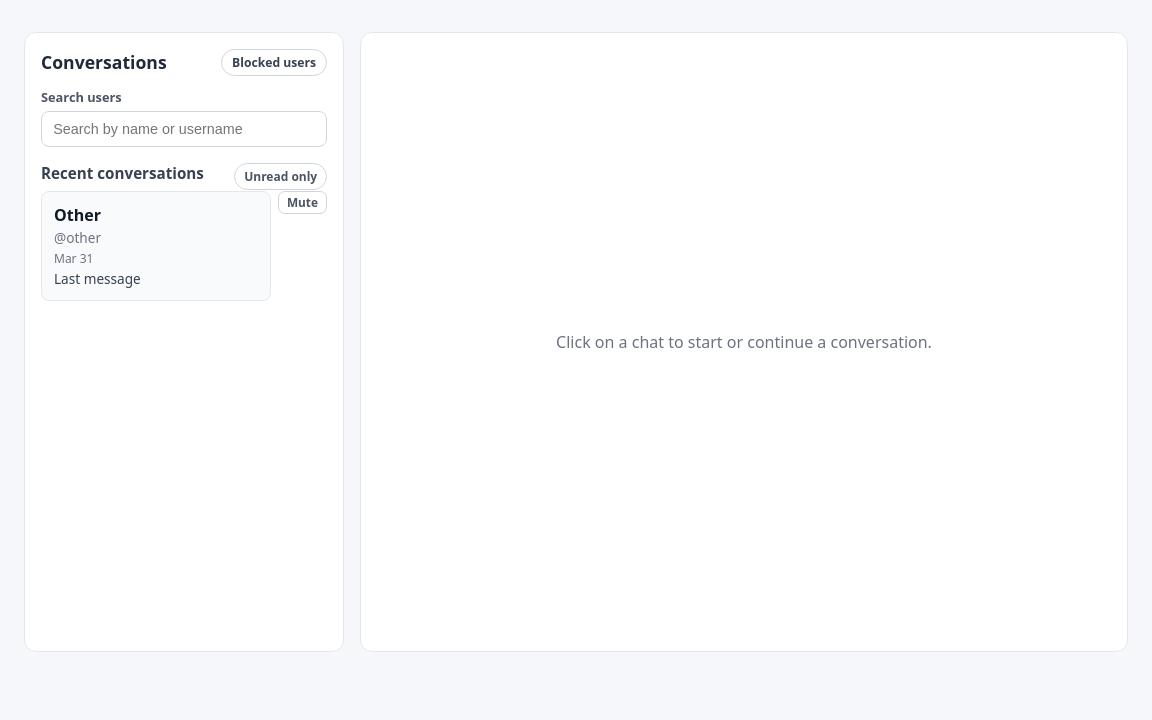
Scenario: Chat Page › pauses polling when hidden and refreshes when visible again
What coordinates should you click on to do the following:
click the button with aria-label "Open recent conversation with Other"
I would click on:
 (156, 246)
Its box is x1=41 y1=191 x2=271 y2=301.
Wait 9250 ms
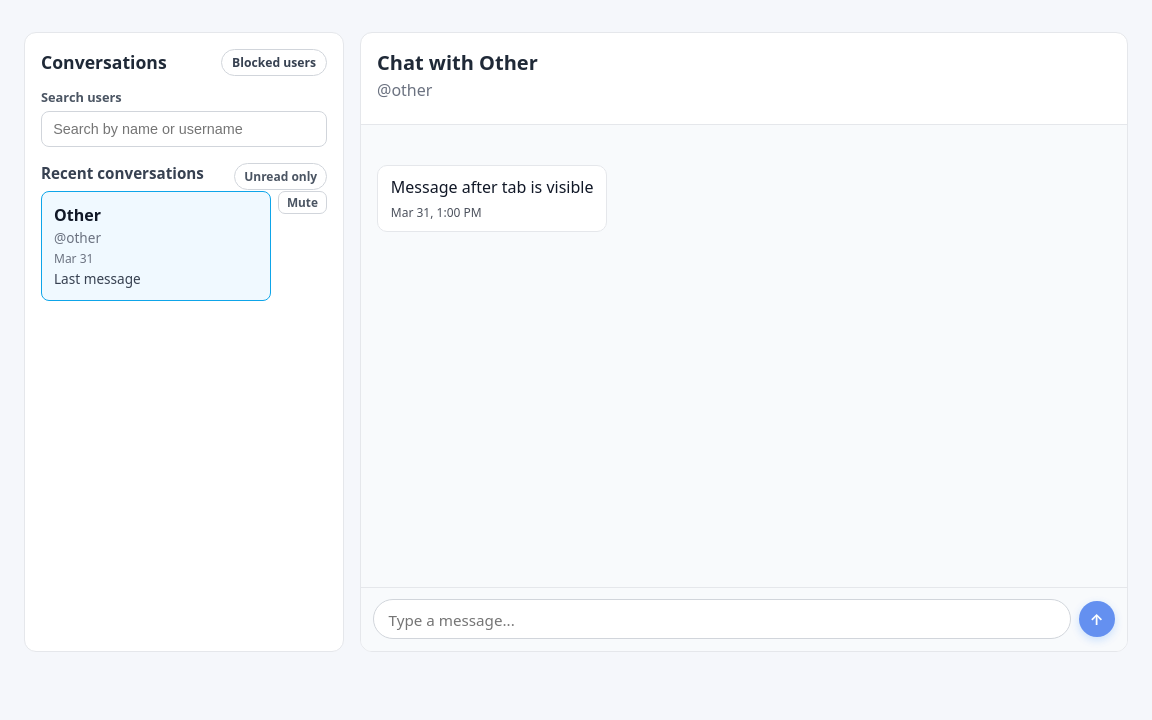
Now the heading "Chat with Other" is shown, box x1=377 y1=49 x2=538 y2=76
Now the text "Message after tab is visible" is shown, box x1=391 y1=176 x2=594 y2=198
